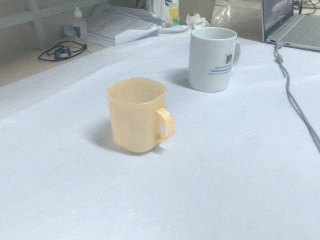bottle: (71, 6, 88, 44)
cup: (107, 77, 176, 154), (186, 26, 241, 94)
